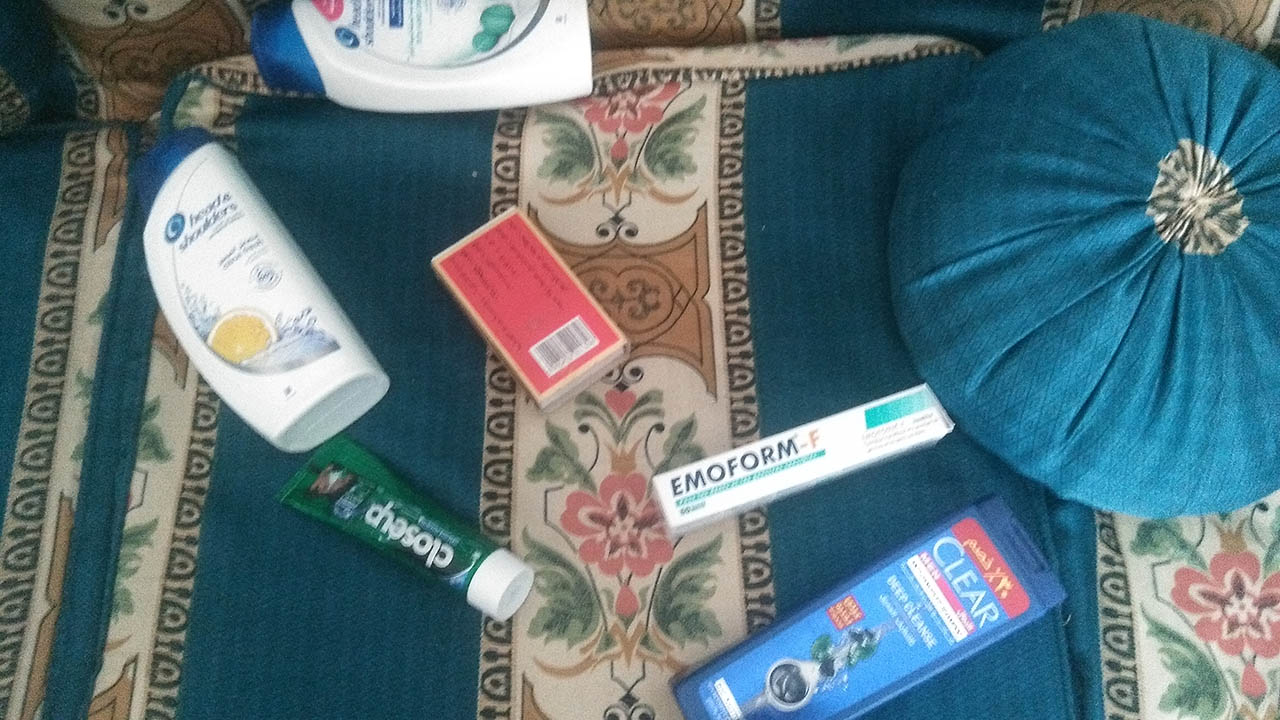Shampoo-Clear 4.7$: (686, 497, 1060, 719)
Toothpaste-Closeup 3.04$: (249, 436, 538, 630)
Toothpaste-F 1.5$: (630, 403, 968, 518)
match-sticks .90$: (398, 194, 655, 428)
shampoo-Lemon 3.5$: (112, 141, 386, 439)
shampoo-green 4.5$: (252, 1, 600, 108)
